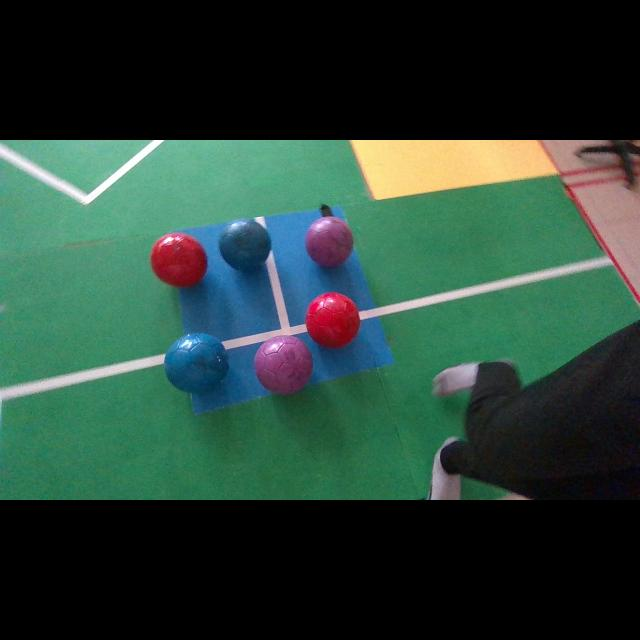B: (164, 332, 229, 393), (219, 220, 271, 271)
P: (254, 335, 312, 393), (305, 216, 354, 266)
R: (150, 232, 208, 286), (305, 292, 360, 348)
